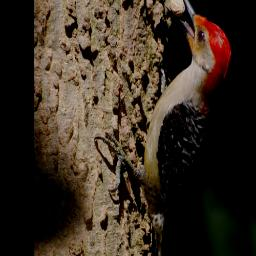Woodpecker: (90, 0, 232, 256)
